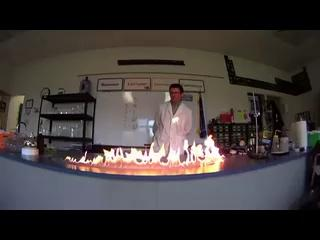Fire: (58, 134, 228, 171)
